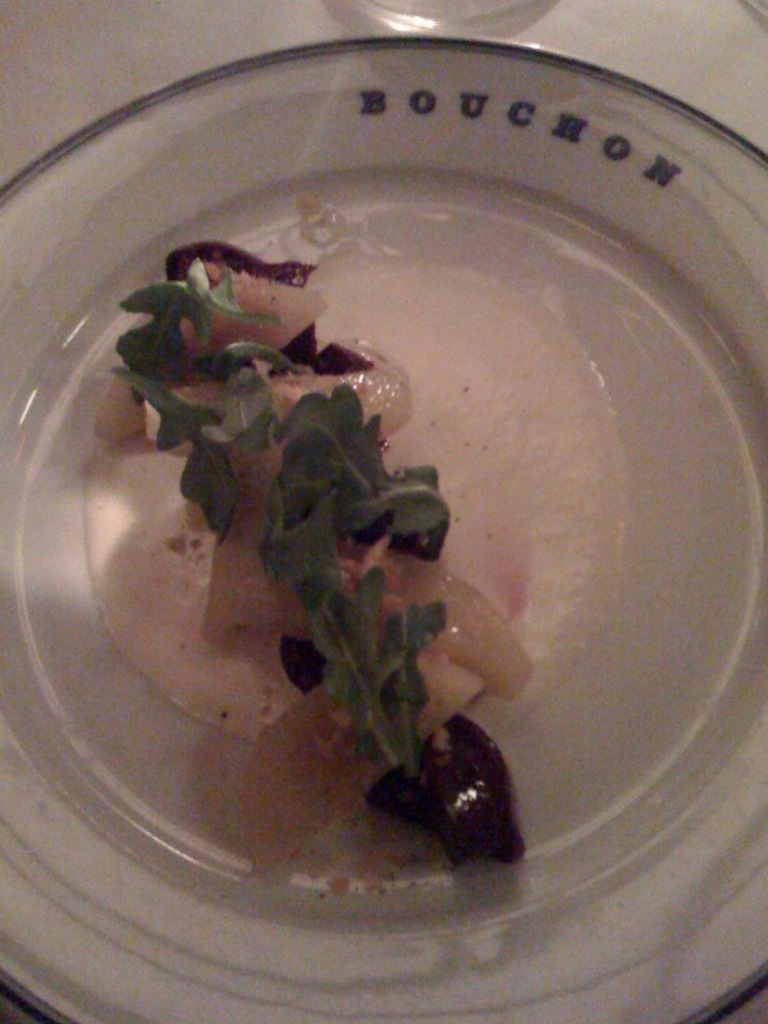plate: (3, 0, 767, 1023)
